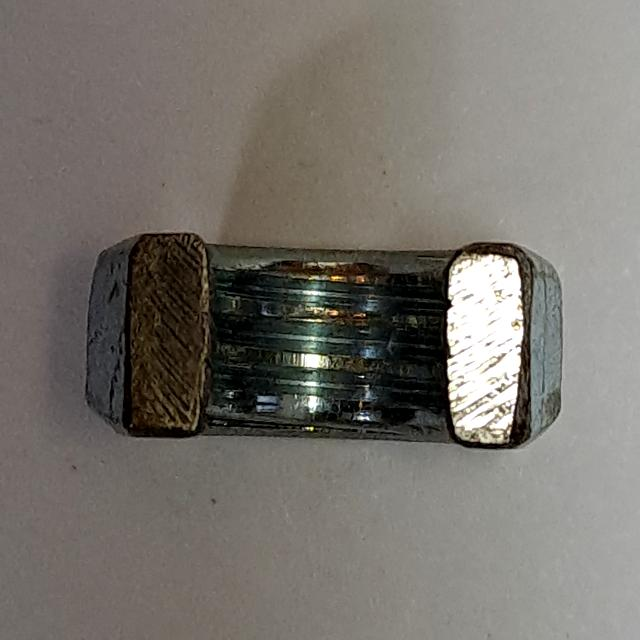Side-Fracture: (62, 213, 580, 472)
